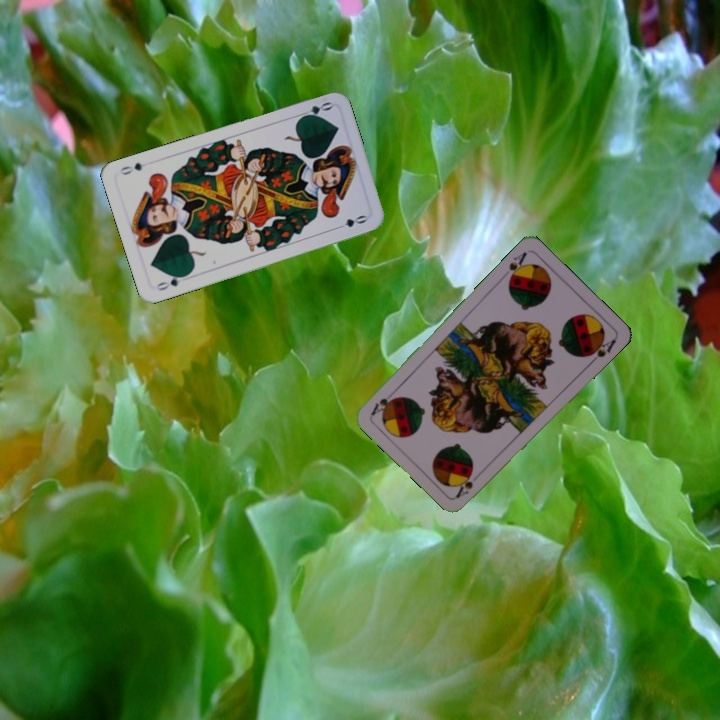GO: (294, 98, 335, 122), (153, 270, 190, 293)
SA: (504, 247, 530, 285), (452, 469, 476, 500)
